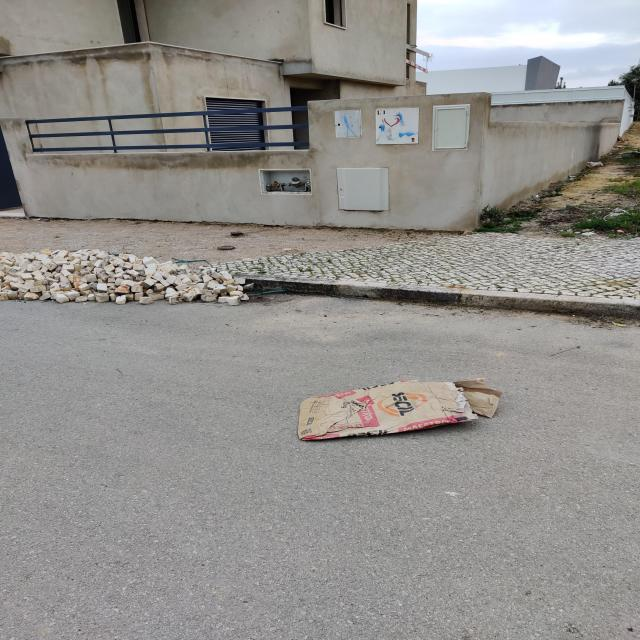litter: (299, 386, 468, 439)
